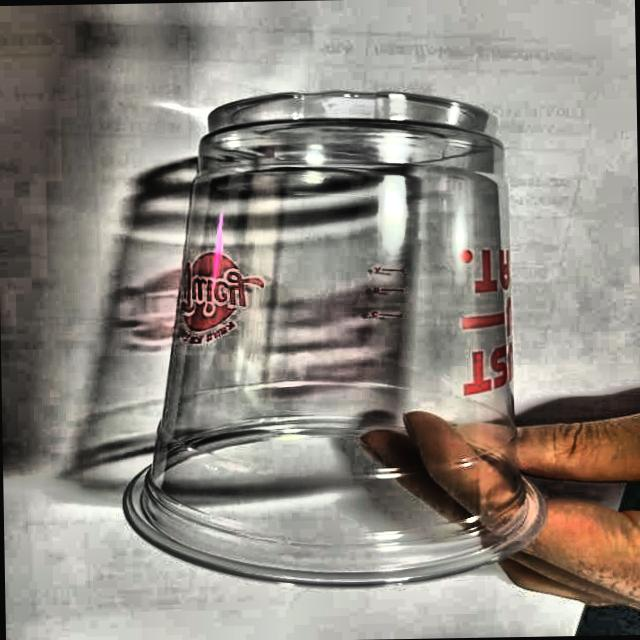plastic cup: (110, 83, 553, 592)
